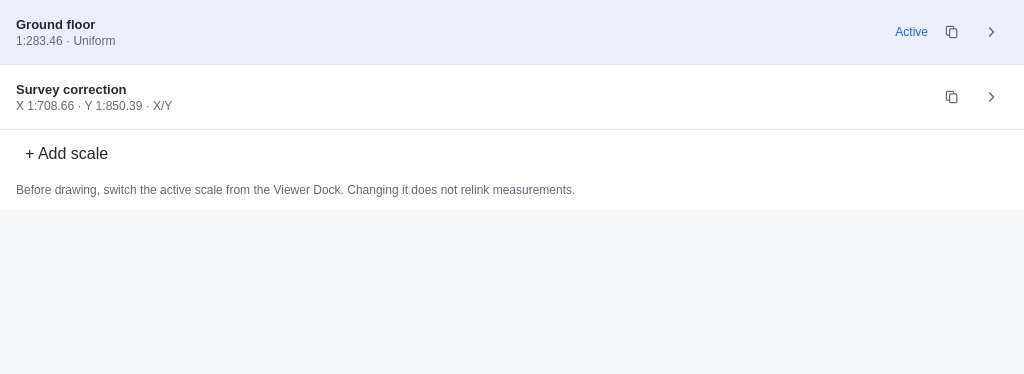
Test: ScalesWorkspace › formats calibration references using the current imperial Viewer display mode
Click the button named "Expand scale Ground floor, active".
click(992, 32)  # box [976,16,1008,48]
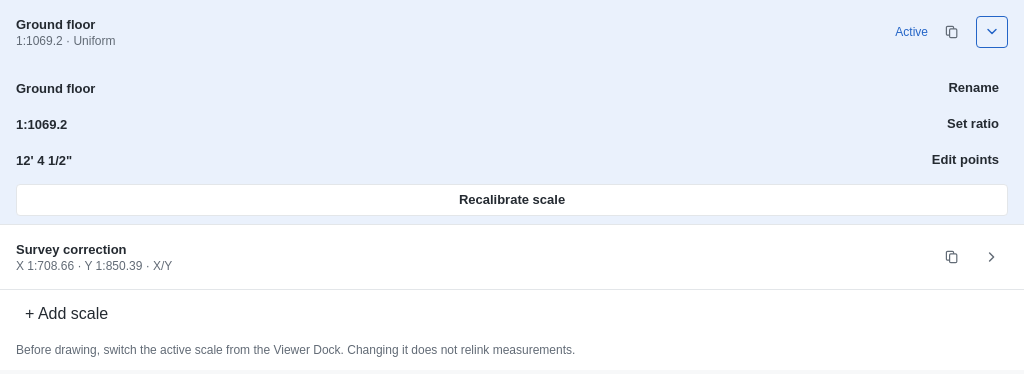
Expected: the element titled "39.37 in" is shown, [15,152,131,168]
